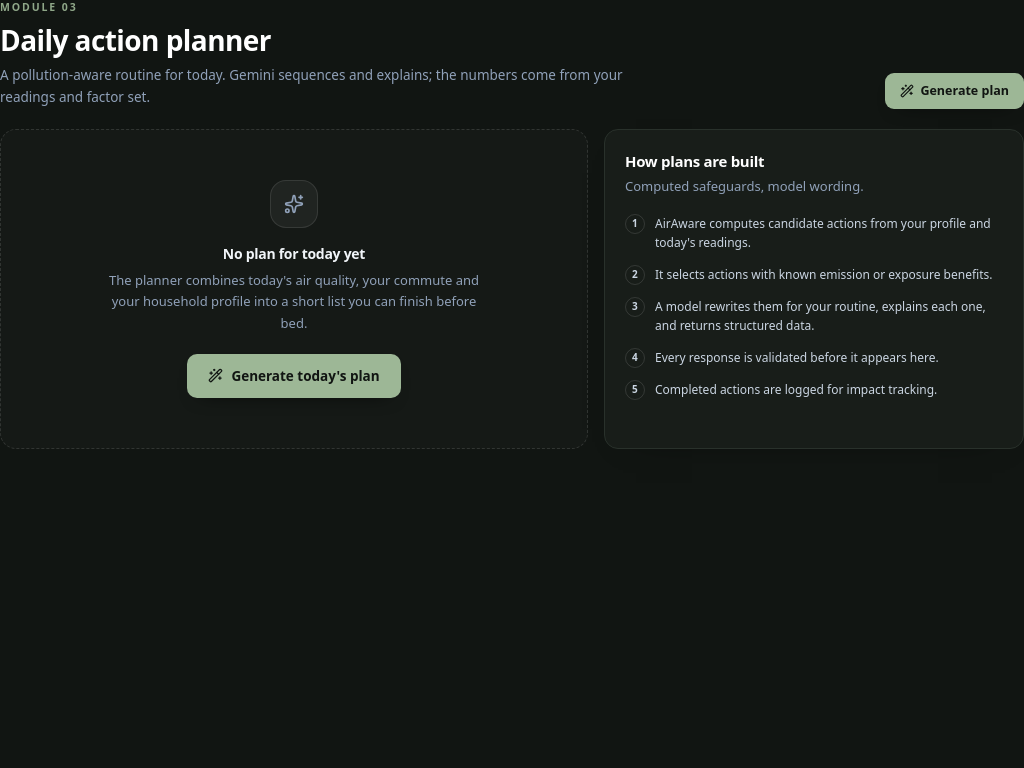
Scenario: DailyPlan interactions › generates a plan from the empty state
Expected: the heading "No plan for today yet" is shown, [223, 244, 365, 264]
Click the button "Generate today's plan" at [294, 376], box [187, 354, 401, 398]
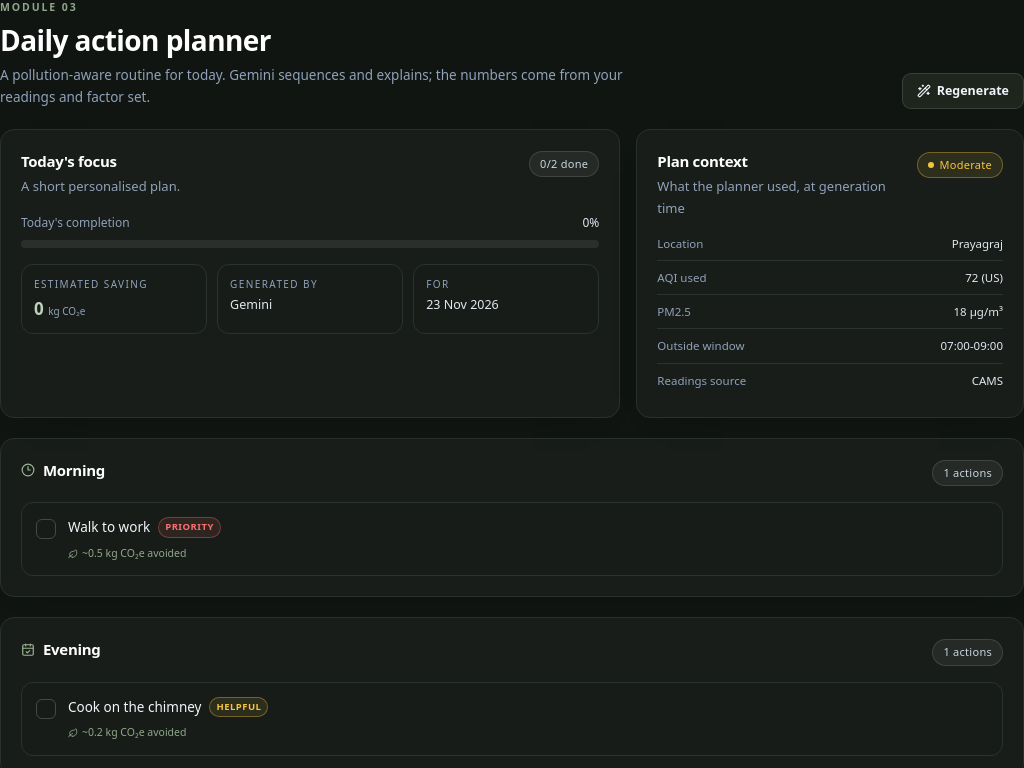
Expected: the heading "Today's focus" is shown, [21, 151, 117, 171]
